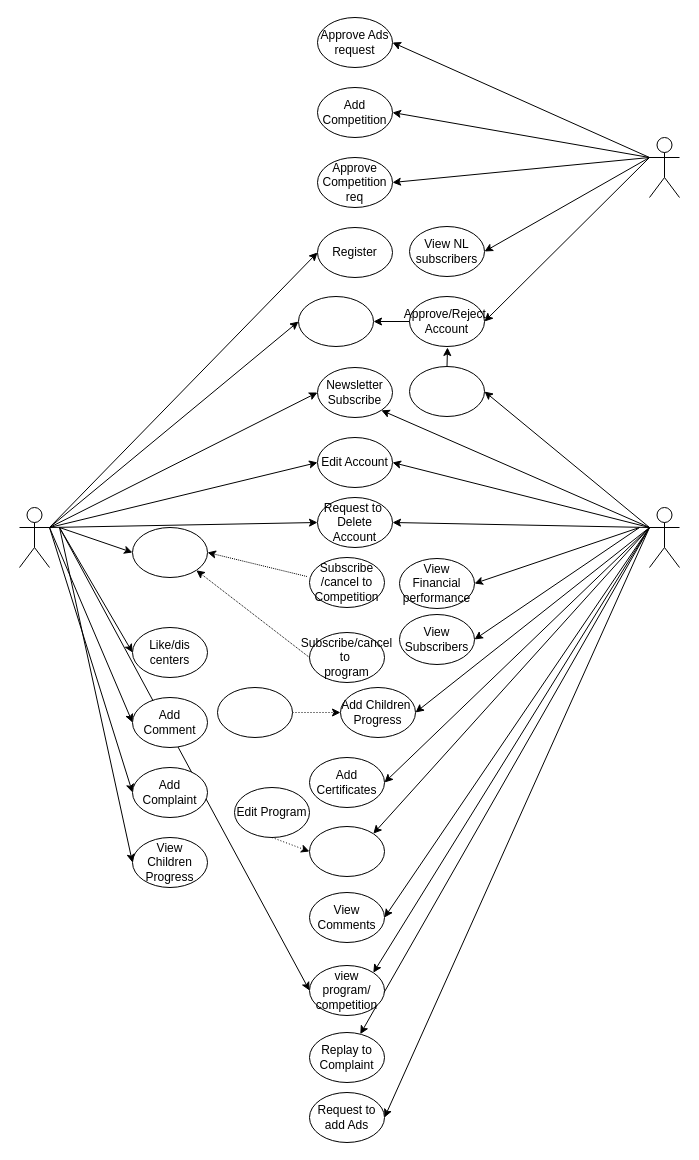
This 699x1160 diagram has some shape labels left out. Each missing label, with the box of its shape:
AC: (648, 506, 680, 568)
AC Register: (408, 366, 484, 416)
Add Children: (132, 526, 208, 578)
Add Program: (308, 826, 384, 876)
Admin: (648, 136, 680, 198)
Edit Child Progress: (216, 686, 292, 738)
Login: (298, 296, 374, 346)
Parent: (18, 506, 50, 568)
